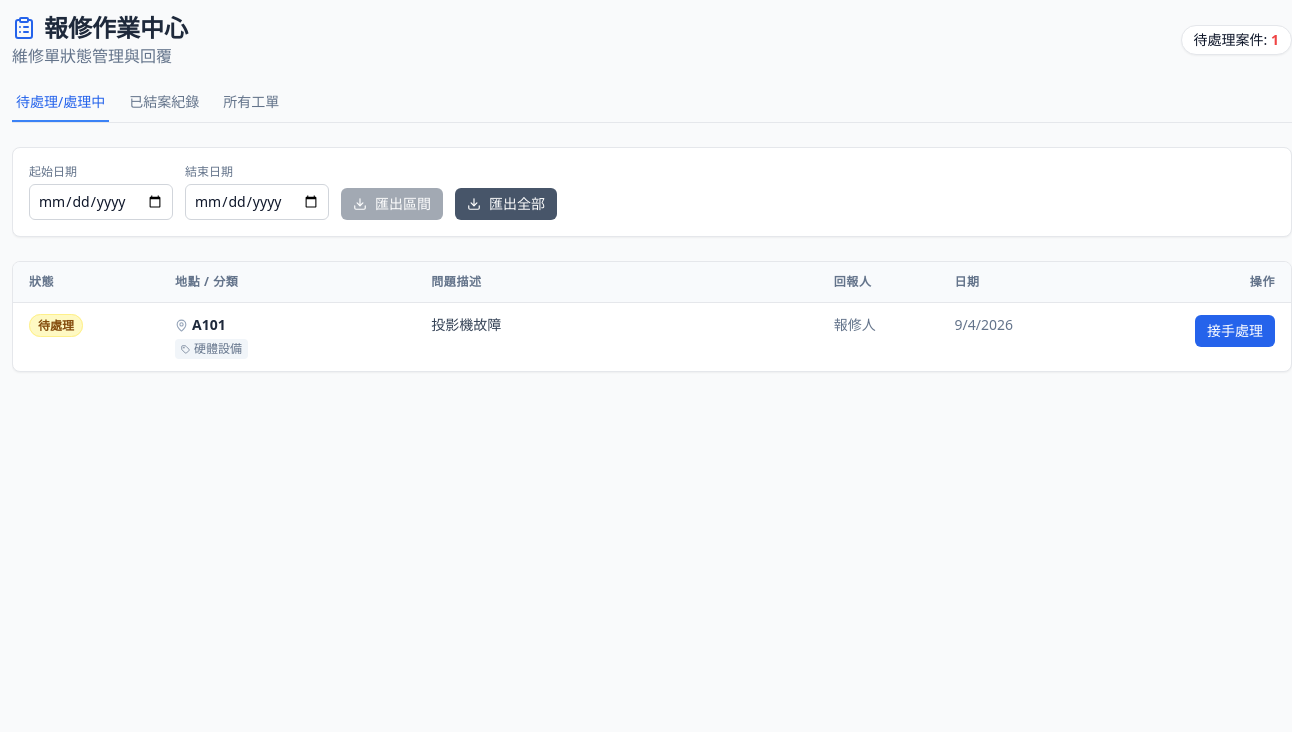
Scenario: RepairManagement — clicking a ticket row opens the detail panel › opens the detail panel when a ticket row is clicked
This screenshot has width=1292, height=732.
Click the row "待處理 A101 硬體設備 投影機故障 報修人 9/4/2026 接手處理" at {"x": 56, "y": 326}, box [13, 302, 1291, 371]
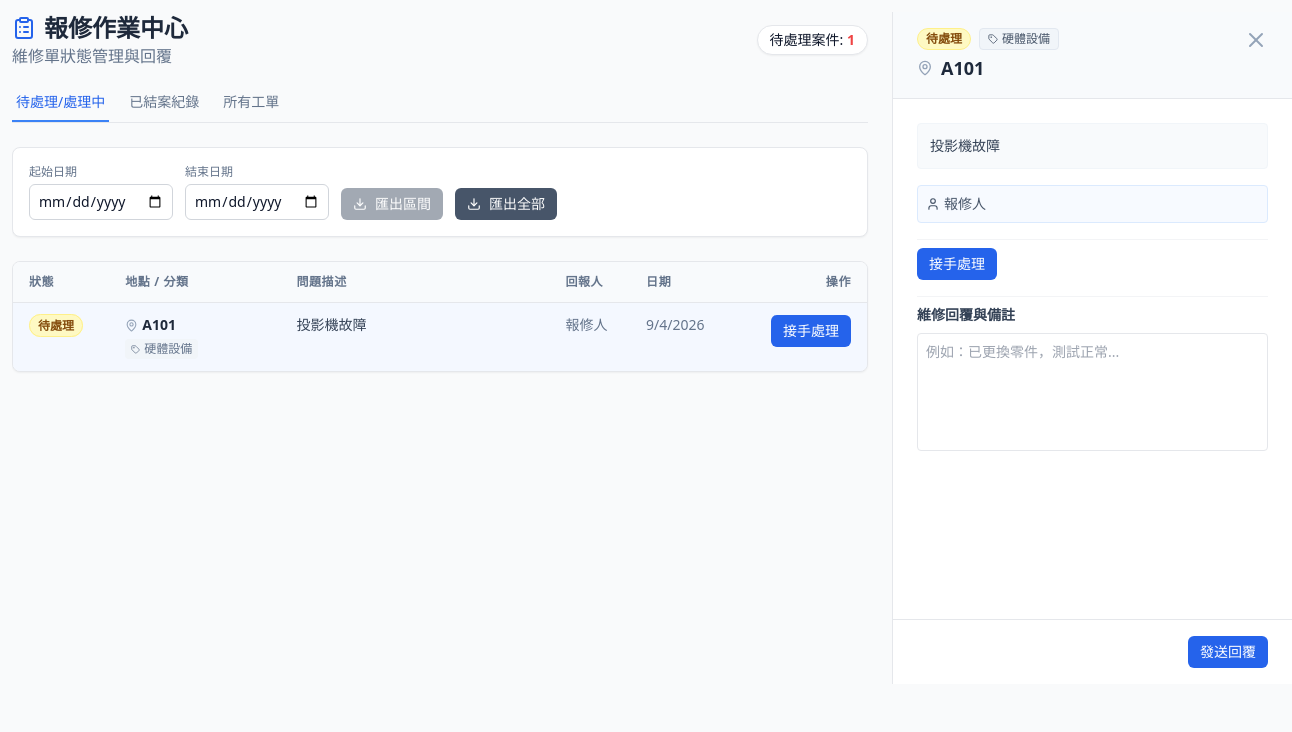
Expected: the text "維修回覆與備註" is shown, [917, 305, 1015, 324]
